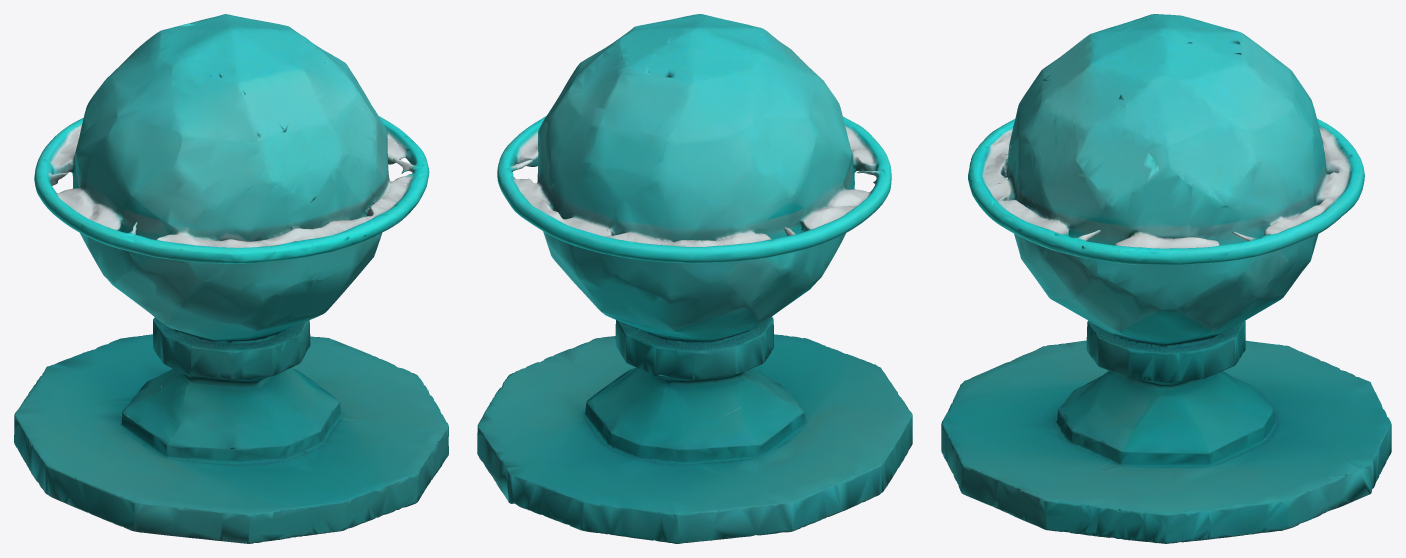
Rendered from vectorSearch.glb.
3 views of the same model, side by side, from view 1: azimuth 30°, elevation 25°; view 2: azimuth 150°, elevation 25°; view 3: azimuth 270°, elevation 25° (orthographic).
Bounding box in the file's own units: 1.61 × 2 × 1.68.
Materials: 1 (1 with a texture image).
